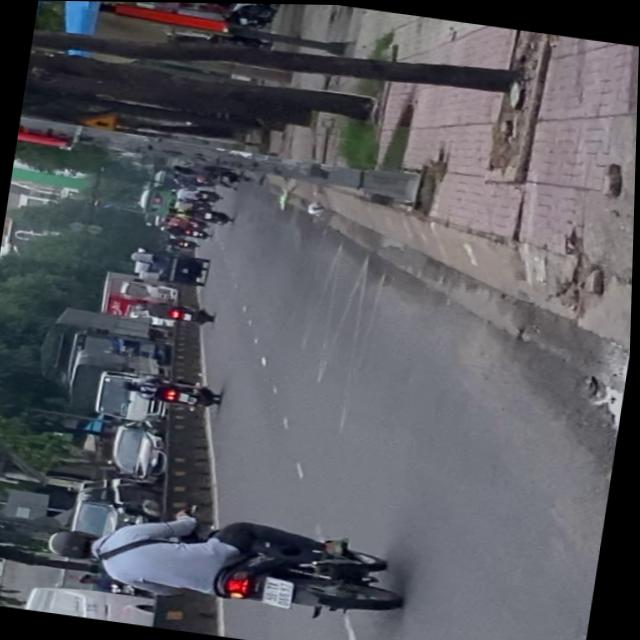helmet: (45, 526, 103, 564)
licenseplate: (37, 492, 414, 632)
nohelmet: (262, 576, 296, 608)
